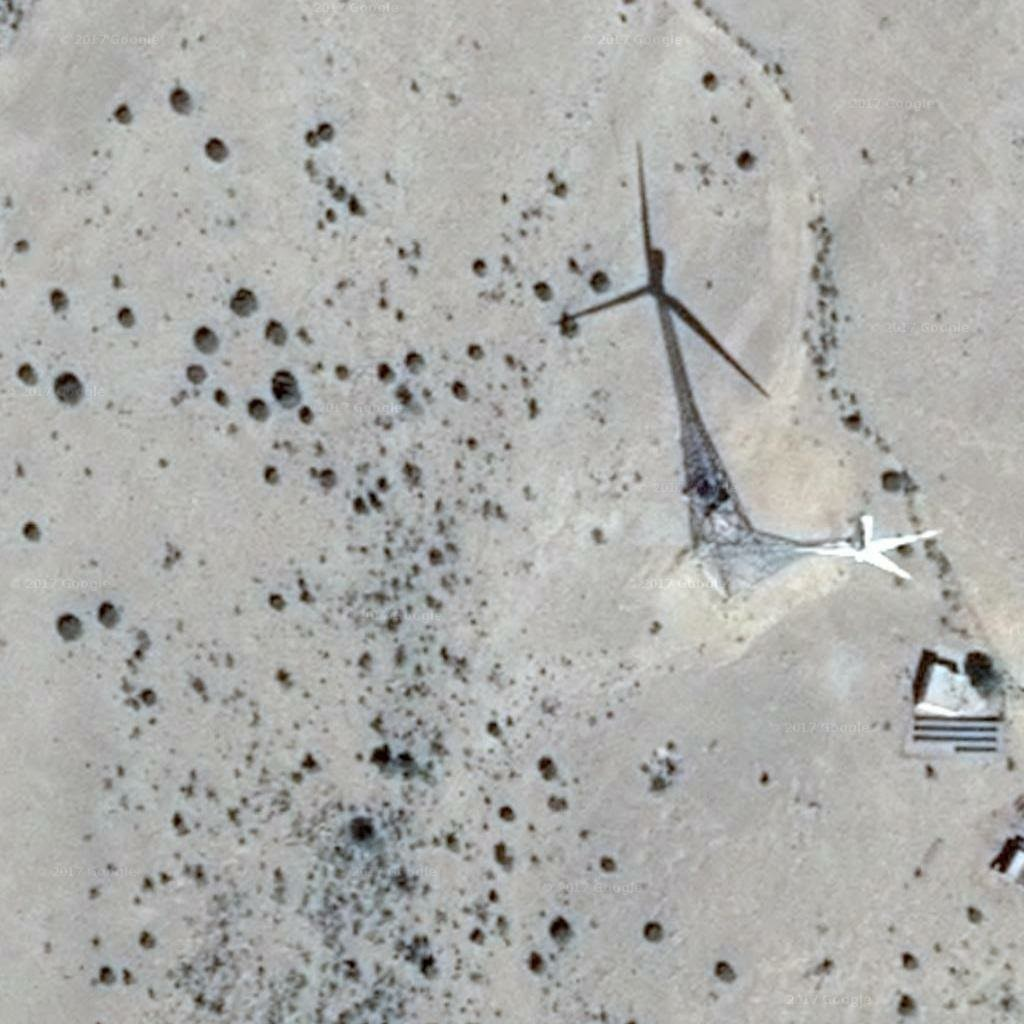Windmill: (537, 143, 792, 533)
